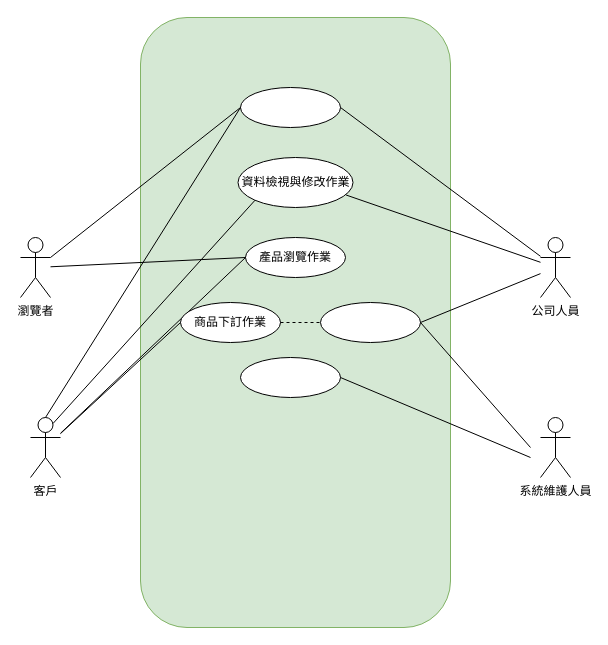
Some shapes in this 608 by 645 pixel diagram are drawn without their labels. Here are the shapes that lost their labels. From the top down, the centre of each, then its label:
At point (290, 107): "平台註冊作業".
At point (370, 322): "後台管理作業".
At point (290, 377): "系統維護作業".
